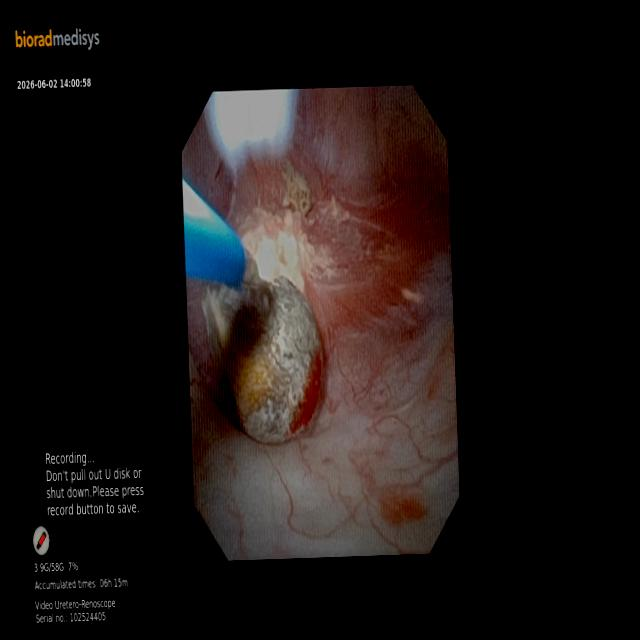laser-fibre: (243, 248, 265, 286)
laser_dot: (254, 240, 275, 279)
stone-new: (201, 256, 322, 443)
